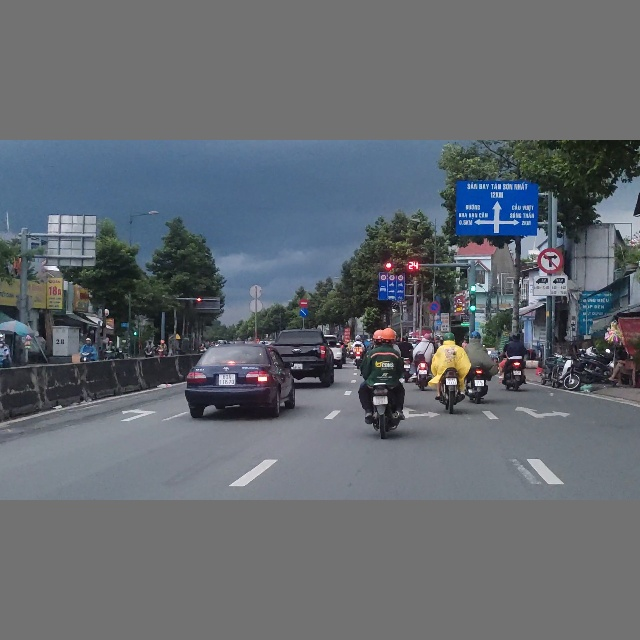P.102: (299, 299, 309, 307)
P.127*60: (380, 274, 387, 281), (389, 274, 395, 281), (398, 275, 404, 281)
P.131a: (428, 302, 440, 313)
P.137: (537, 248, 564, 273)
R.302a: (299, 309, 309, 317)
R.415a: (379, 281, 404, 300)
